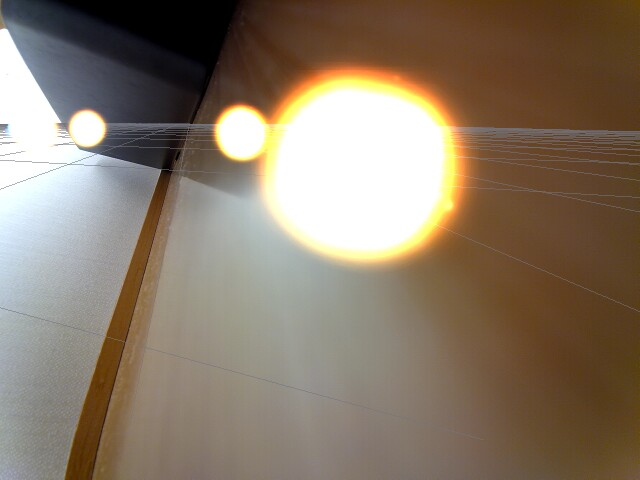firebig: (263, 37, 477, 281)
